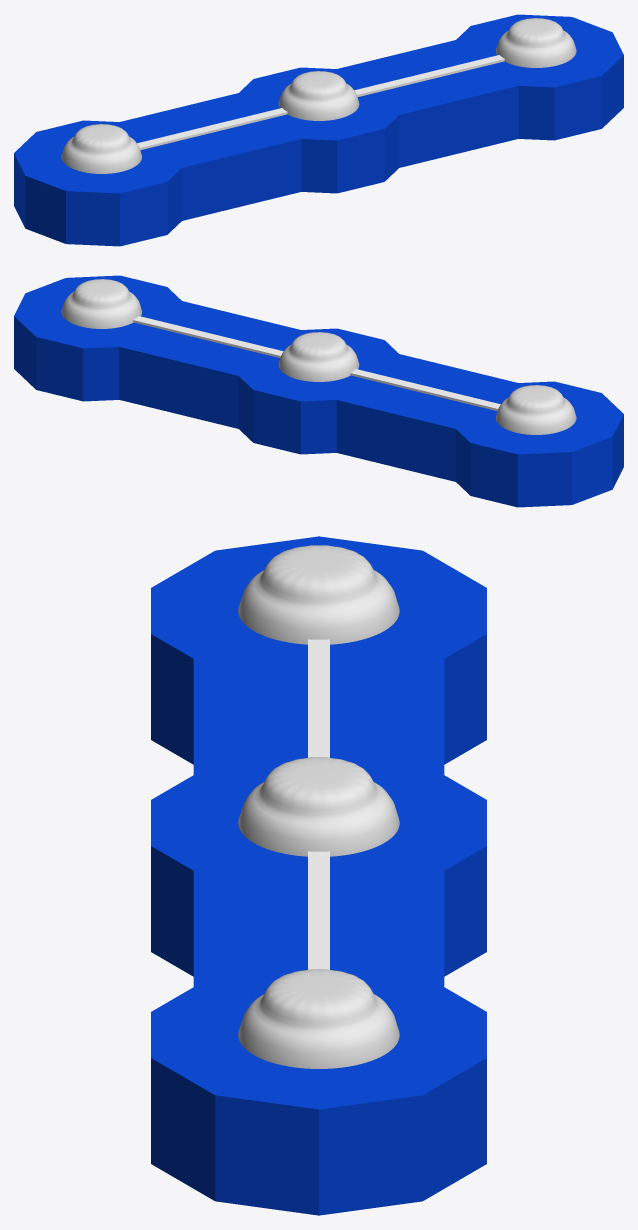
File: 3BarConnector.fbx
The picture shows the model from 3 angles, top to bottom: view 1: azimuth 30°, elevation 25°; view 2: azimuth 150°, elevation 25°; view 3: azimuth 270°, elevation 25°; orthographic projection. The views are drawn at different scales.
Parts seen in each view (by area): view 1: pCube1, pCylinder5, pCylinder1, pCylinder2, pCylinder6, pCylinder3, pCylinder4, pCube3, pCube2; view 2: pCube1, pCylinder5, pCylinder1, pCylinder2, pCylinder6, pCylinder3, pCylinder4, pCube3, pCube2; view 3: pCube1, pCylinder1, pCylinder5, pCylinder2, pCylinder4, pCylinder3, pCylinder6, pCube2, pCube3.
Part boxes in pixels (x1,y1,x2,y2): pCube1: [71, 28, 566, 220]; pCylinder5: [14, 120, 188, 246]; pCylinder1: [449, 14, 623, 140]; pCylinder2: [234, 67, 406, 193]; pCylinder6: [61, 124, 141, 173]; pCylinder3: [278, 71, 359, 120]; pCylinder4: [496, 18, 576, 67]; pCube3: [137, 108, 287, 150]; pCube2: [354, 55, 504, 96]; pCube1: [71, 289, 566, 481]; pCylinder5: [452, 381, 623, 507]; pCylinder1: [14, 275, 188, 401]; pCylinder2: [236, 328, 398, 454]; pCylinder6: [496, 385, 576, 434]; pCylinder3: [278, 332, 359, 381]; pCylinder4: [61, 279, 141, 328]; pCube3: [350, 369, 500, 411]; pCube2: [133, 316, 283, 357]; pCube1: [193, 611, 444, 1034]; pCylinder1: [151, 962, 486, 1215]; pCylinder5: [151, 536, 486, 764]; pCylinder2: [151, 750, 486, 976]; pCylinder4: [238, 969, 399, 1068]; pCylinder3: [238, 757, 399, 856]; pCylinder6: [238, 545, 399, 644]; pCube2: [308, 851, 329, 969]; pCube3: [308, 639, 329, 757].
Size of the model in its own units: 5.41 by 0.7857 by 1.34.
